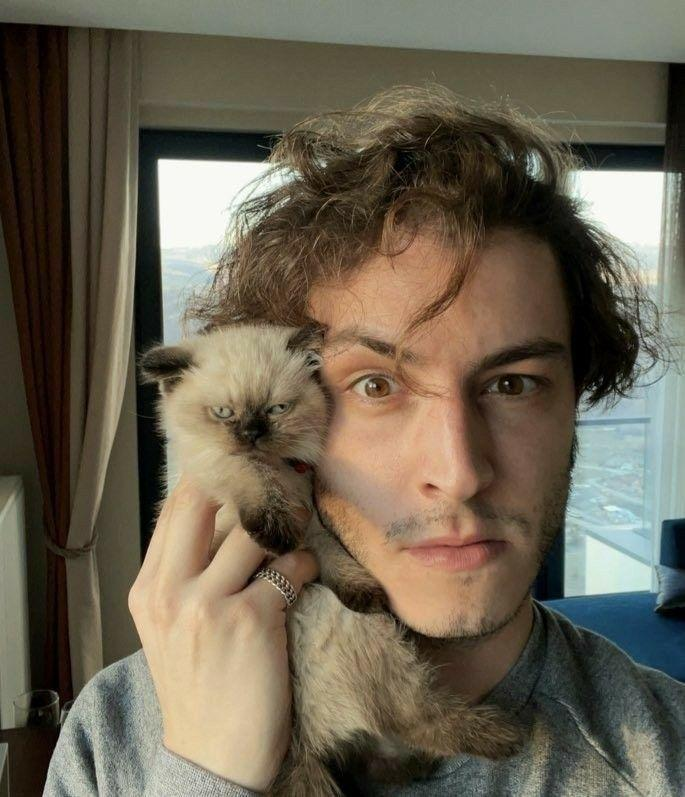kedo: (144, 320, 331, 557)
